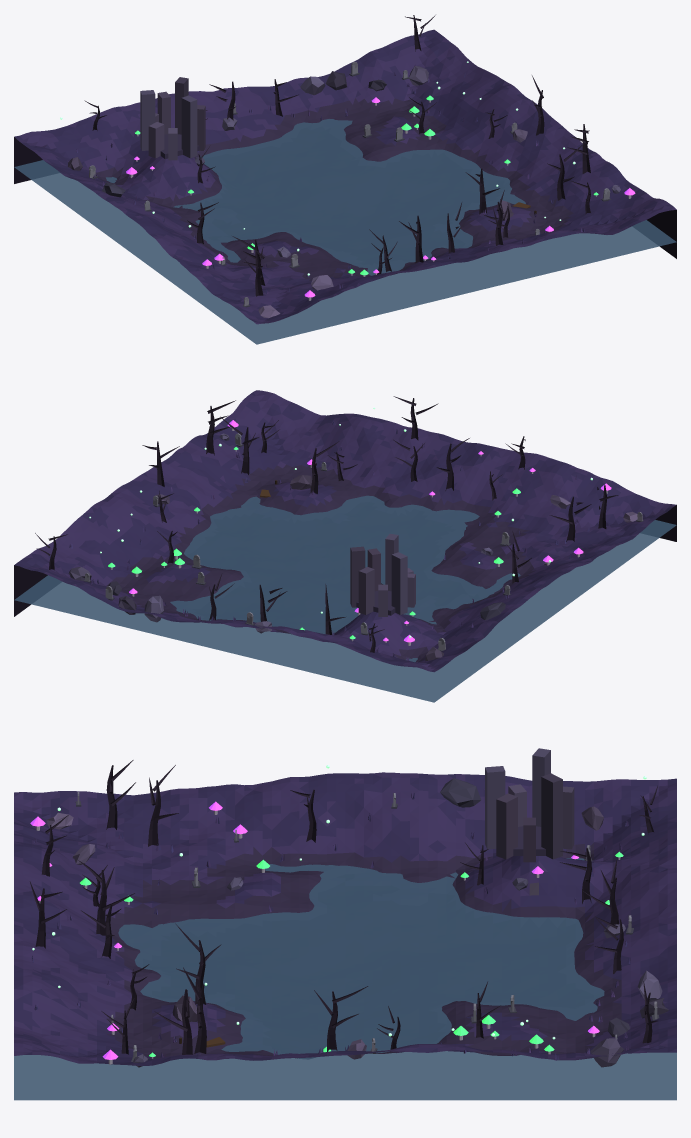
File: loc_cursed_swamp.glb
3 views of the same model, one above another, from view 1: azimuth 30°, elevation 25°; view 2: azimuth 150°, elevation 25°; view 3: azimuth 270°, elevation 25° (orthographic). The views are drawn at different scales.
Parts seen in each view (by area): view 1: Terrain, Water, Props_Env; view 2: Terrain, Water, Props_Env; view 3: Terrain, Water, Props_Env, Props_SwampMushGreen, Props_SwampMushPurple.
Boxes of the visible parts, bbox=[...] form: Terrain: bbox=[14, 29, 676, 324]; Water: bbox=[14, 119, 676, 344]; Props_Env: bbox=[68, 15, 631, 318]; Terrain: bbox=[14, 390, 676, 672]; Water: bbox=[14, 495, 676, 702]; Props_Env: bbox=[35, 396, 643, 661]; Terrain: bbox=[14, 772, 676, 1065]; Water: bbox=[14, 858, 676, 1100]; Props_Env: bbox=[29, 748, 668, 1067]; Props_SwampMushGreen: bbox=[80, 851, 623, 1056]; Props_SwampMushPurple: bbox=[30, 801, 599, 1059].
Bounding box in the file's own units: 36 × 8.8 × 36.
